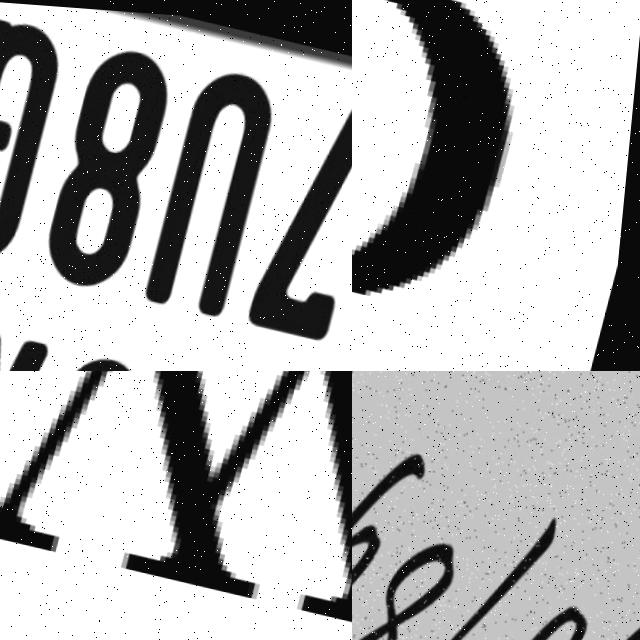5: (551, 545, 640, 640)
6: (461, 557, 617, 640)
7: (411, 467, 586, 640), (245, 76, 352, 341)
8: (38, 30, 182, 294), (352, 495, 492, 640)
9: (352, 415, 448, 640)
D: (352, 0, 558, 371)
G: (0, 6, 73, 273)
U: (144, 56, 286, 319)
W: (0, 371, 352, 640)
